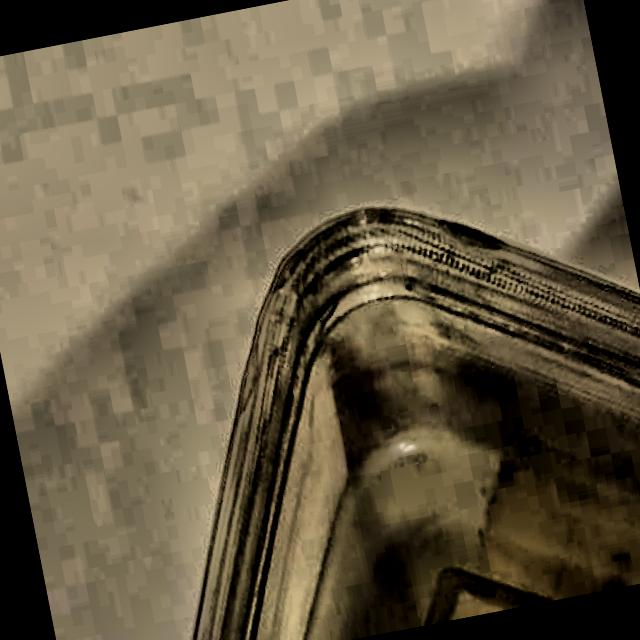plastic: (114, 155, 640, 640)
